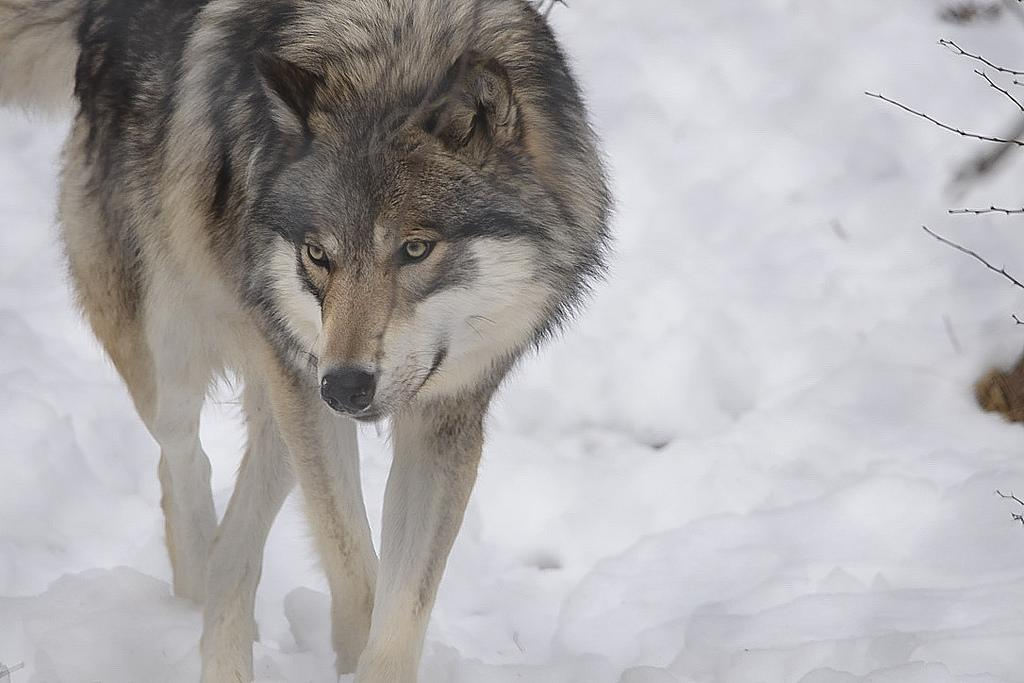Wolf: (1, 1, 616, 683)
